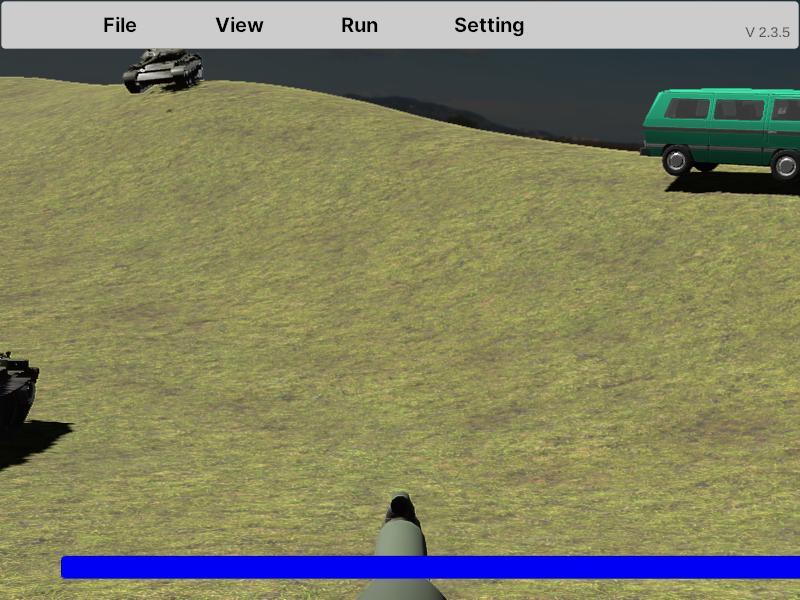Tank: (0, 306, 41, 466), (122, 47, 203, 94)
car: (641, 88, 800, 184)
